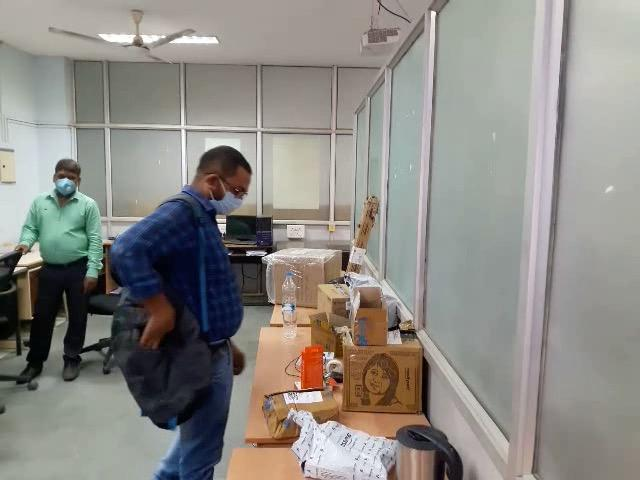shoplifting: (66, 219, 236, 477)
